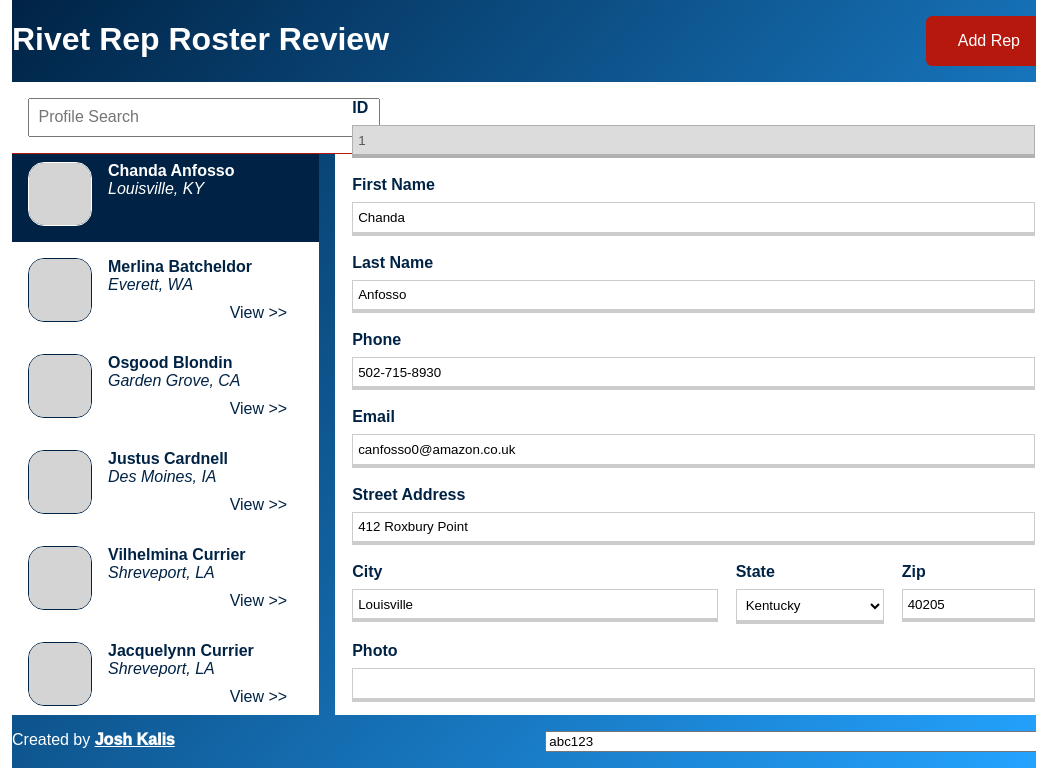
Scenario: navigation between profiles
Check: the field showing "Chanda" is shown, box [352,202,1035,236]
Click the link "View" next to "WA".
click(258, 312)  # box [214,288,303,337]
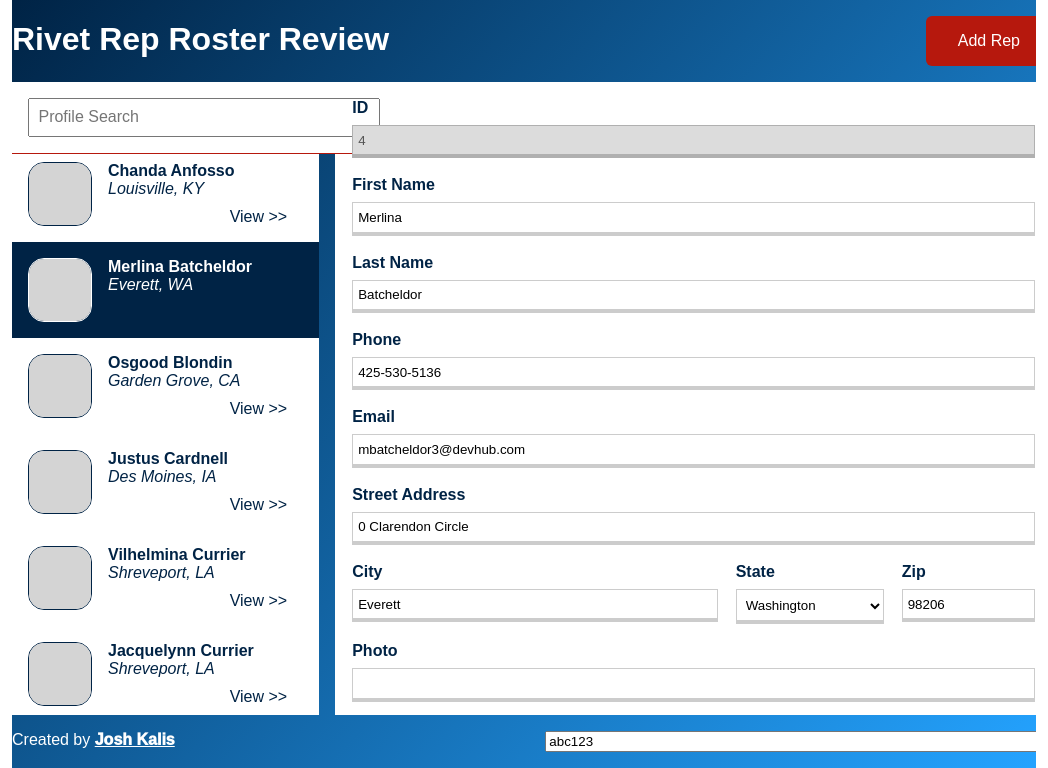
Check: the field showing "Merlina" is shown, box [352,202,1035,236]
